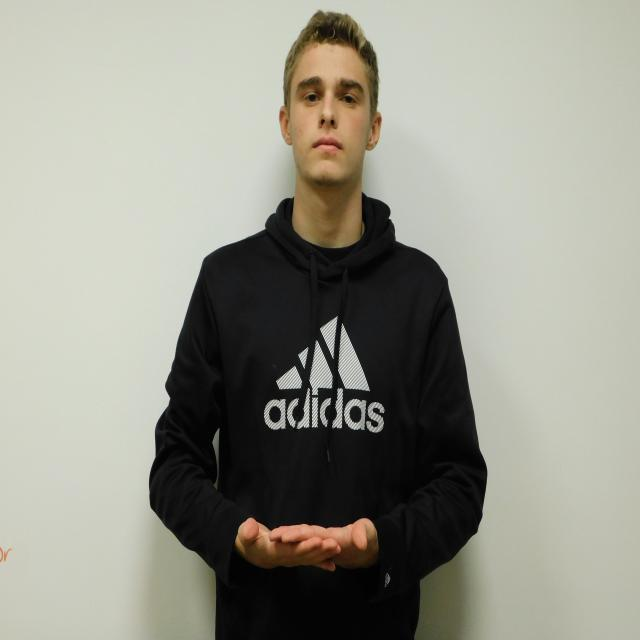good: (238, 517, 378, 572)
